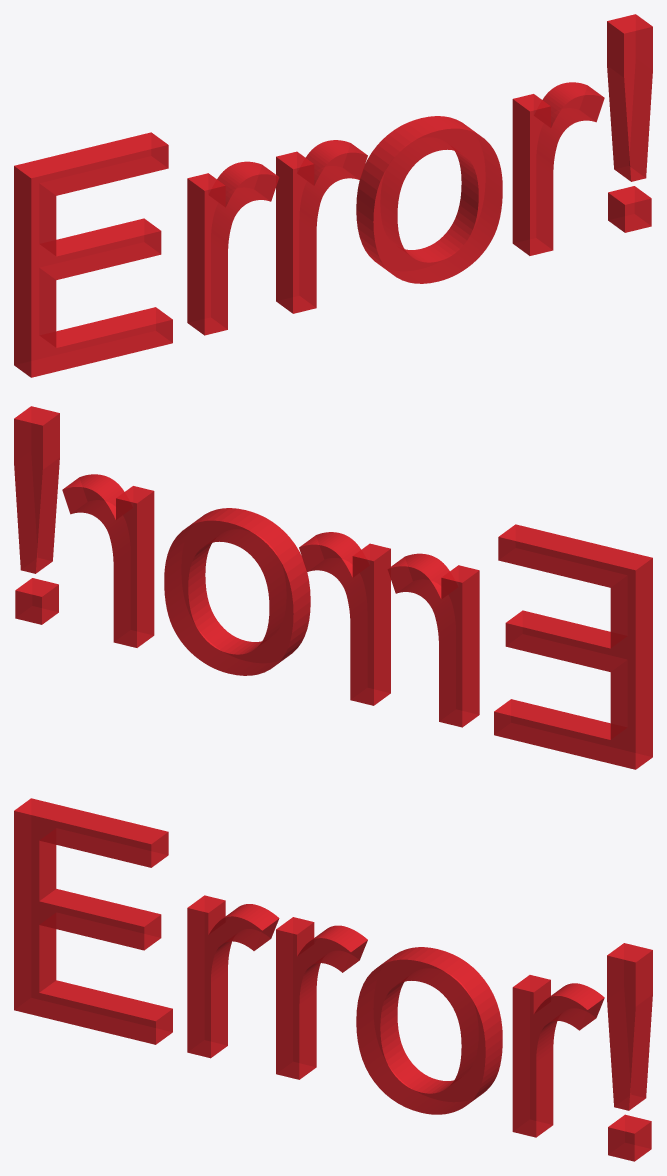
Rendered from error.obj.
3 views of the same model, one above another, from view 1: azimuth 30°, elevation 25°; view 2: azimuth 150°, elevation 25°; view 3: azimuth 330°, elevation 25° (orthographic).
Parts seen in each view (by area): view 1: Error; view 2: Error; view 3: Error.
Part boxes in pixels (box(x1,y1,x2,y2)): Error: box(14, 14, 652, 377); Error: box(14, 406, 652, 769); Error: box(14, 798, 652, 1161).
Size of the model in its own units: 209 by 65.1 by 10.
